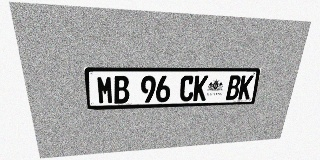6: (156, 76, 171, 102)
9: (141, 76, 156, 103)
B: (113, 76, 129, 104), (226, 75, 241, 100)
C: (179, 76, 195, 102)
K: (238, 75, 254, 100), (193, 75, 208, 101)
M: (96, 76, 114, 104)
